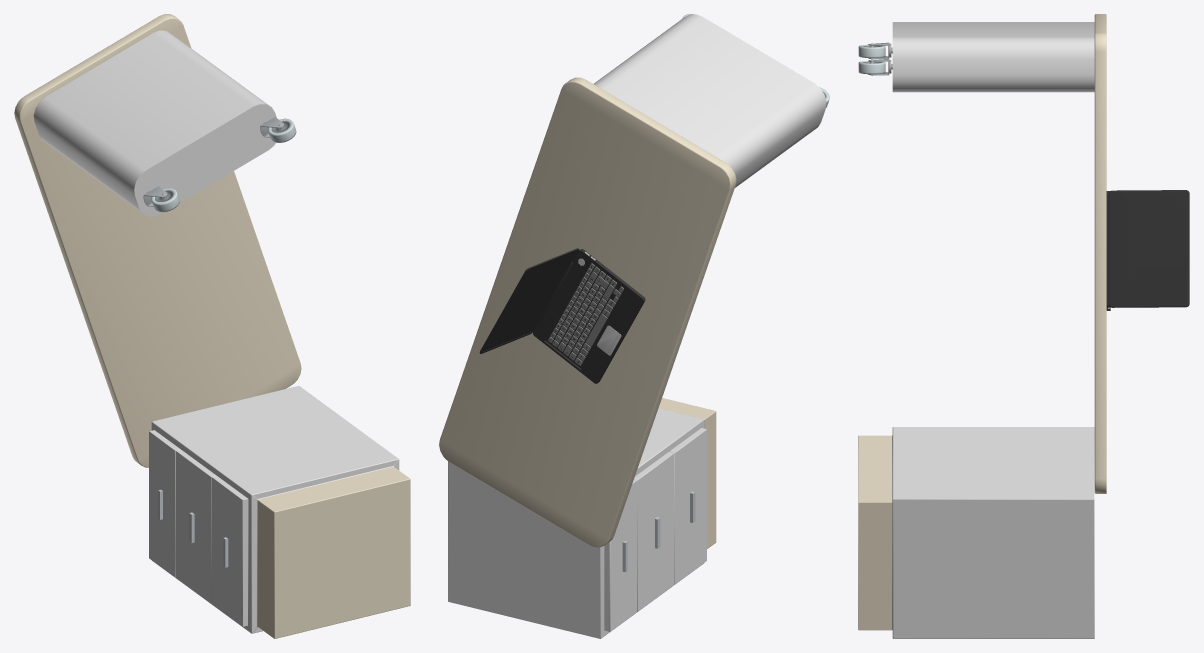
Rendered from UnderDeskCabinet.fbx.
The picture shows the model from 3 angles, left to right: view 1: azimuth 30°, elevation 25°; view 2: azimuth 150°, elevation 25°; view 3: azimuth 270°, elevation 25°; orthographic projection. The views are drawn at different scales.
Visible parts, largest first — view 1: RollingDeskWithLaptop; view 2: RollingDeskWithLaptop; view 3: RollingDeskWithLaptop.
Boxes of the visible parts, x1,y1,x2,y2 form: RollingDeskWithLaptop: [14, 14, 410, 638]; RollingDeskWithLaptop: [439, 14, 829, 638]; RollingDeskWithLaptop: [858, 14, 1189, 638].
Size of the model in its own units: 99.27 by 181 by 100.
